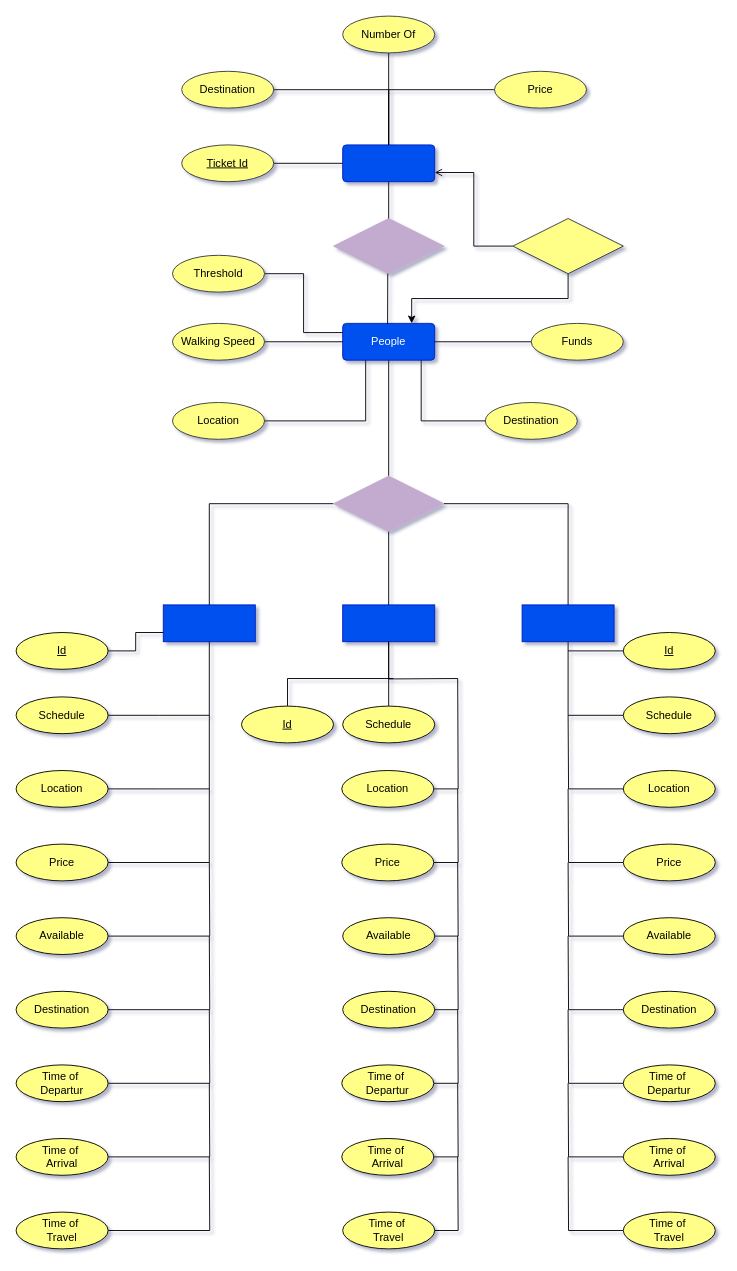
The diagram is 737 pixels wide and 1271 high, and some of its shapes have lost their labels. The box of each missing label's shape, as (x1, y1, x2, y2) in pixels:
Airport: (342, 604, 435, 642)
Bus Stations: (521, 604, 614, 642)
Buy: (333, 218, 444, 274)
Ownes: (512, 218, 623, 274)
Preferences: (333, 475, 444, 531)
Ticket: (342, 144, 435, 182)
Train Station: (162, 604, 255, 642)
